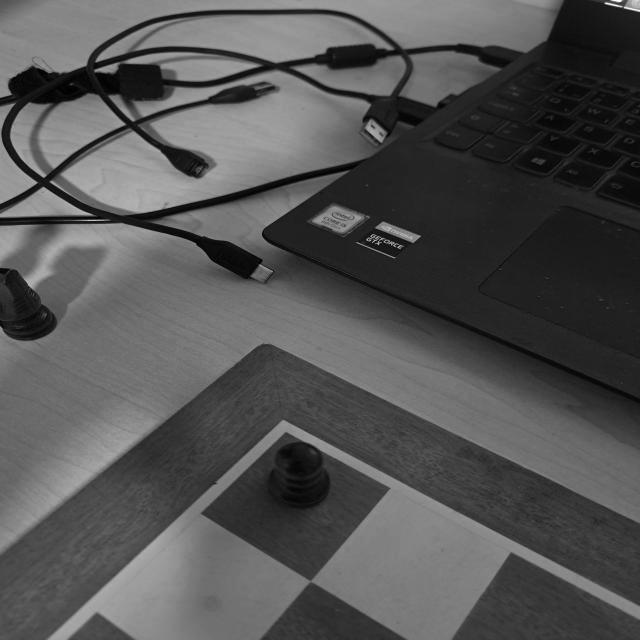chess-table-corners: (227, 395, 343, 470)
